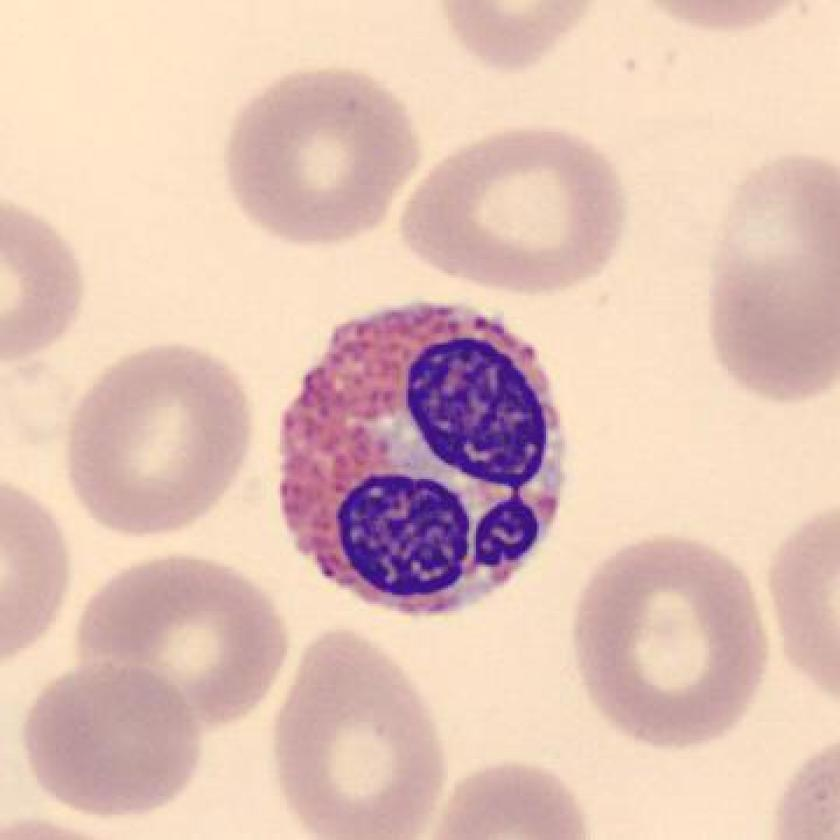eosinophil: (267, 293, 582, 631)
